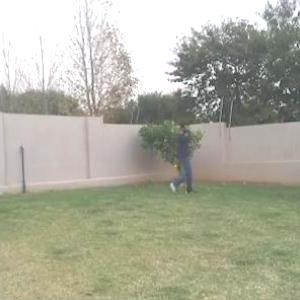follow: (175, 115, 197, 200)
